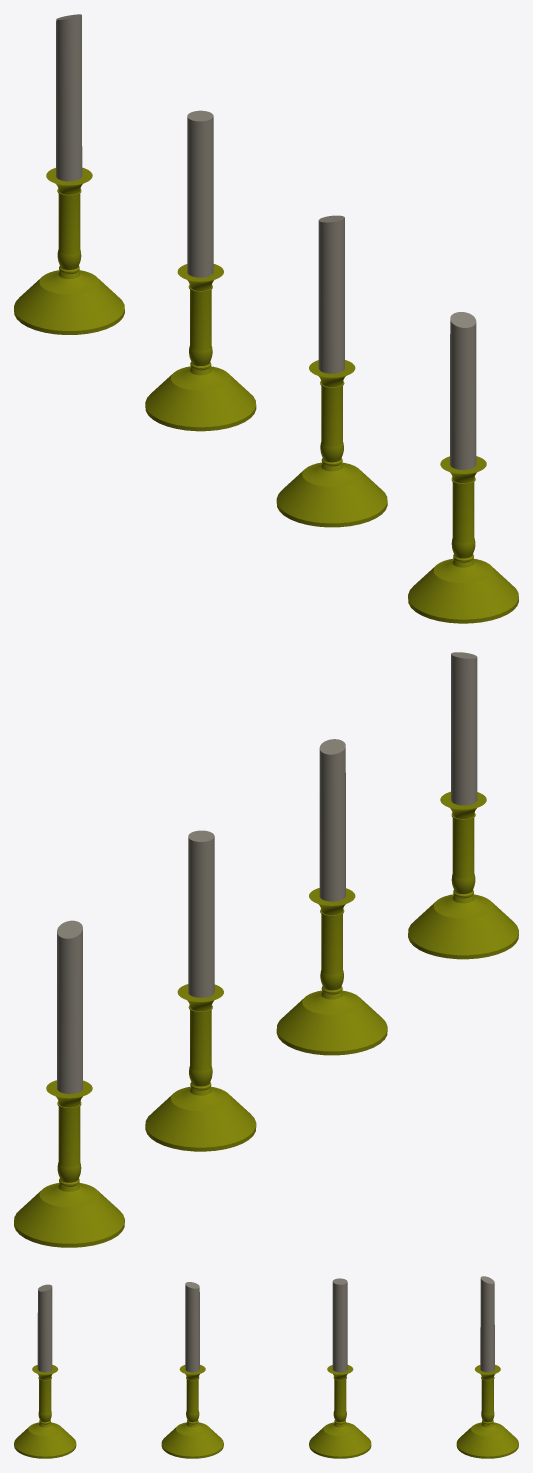
The model's file is candles.glb.
3 renders of one model, top to bottom at view 1: azimuth 30°, elevation 25°; view 2: azimuth 150°, elevation 25°; view 3: azimuth 270°, elevation 25°, orthographic. The views are drawn at different scales.
Parts seen in each view (by area): view 1: handhold, wax; view 2: handhold, wax; view 3: handhold, wax.
Part boxes in pixels (x1,y1,x2,y2): handhold: [14, 167, 518, 623]; wax: [56, 14, 476, 469]; handhold: [14, 791, 518, 1247]; wax: [57, 652, 477, 1093]; handhold: [14, 1365, 518, 1458]; wax: [37, 1276, 494, 1372].
Size of the model in its own units: 0.4229 by 1.25 by 3.42.
